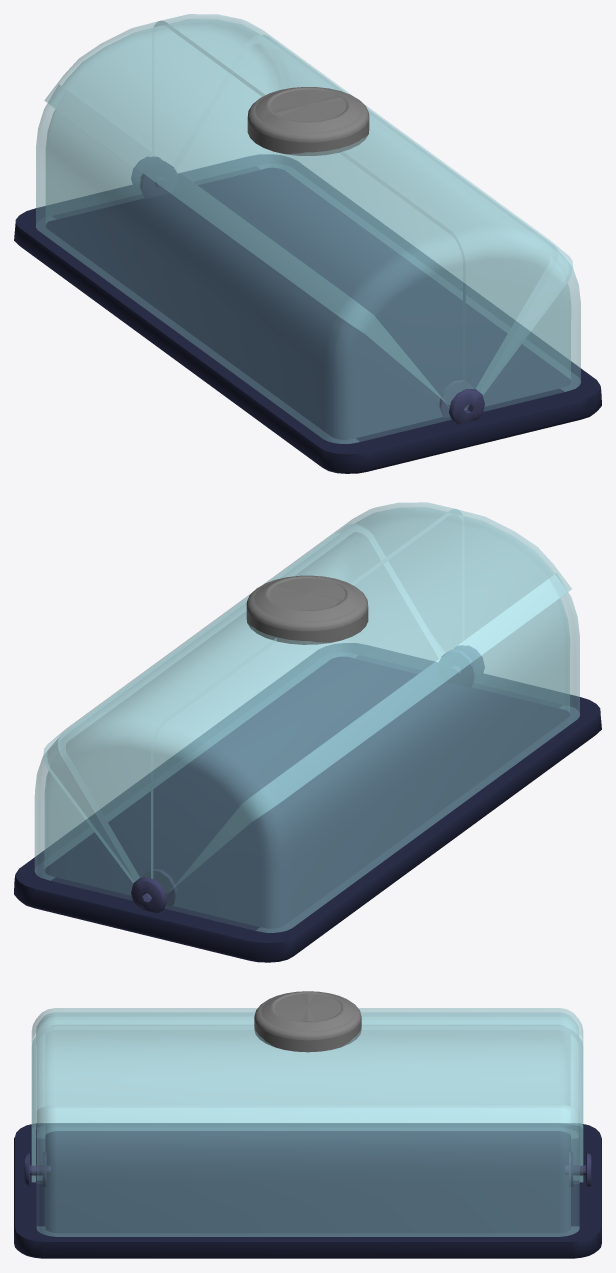
File: DrinkCover.fbx
3 renders of one model, top to bottom at view 1: azimuth 30°, elevation 25°; view 2: azimuth 150°, elevation 25°; view 3: azimuth 270°, elevation 25°, orthographic. The views are drawn at different scales.
Parts seen in each view (by area): view 1: DrinkCover, DrinkCover_Gate_01, DrinkCover_Gate_02, DrinkCover_Mumber; view 2: DrinkCover, DrinkCover_Gate_01, DrinkCover_Gate_02, DrinkCover_Mumber; view 3: DrinkCover, DrinkCover_Gate_02, DrinkCover_Gate_01, DrinkCover_Mumber.
Part boxes in pixels (box(x1,y1,x2,y2)): DrinkCover: box(14, 35, 601, 473); DrinkCover_Gate_01: box(44, 20, 465, 409); DrinkCover_Gate_02: box(154, 14, 572, 409); DrinkCover_Mumber: box(247, 87, 369, 155); DrinkCover: box(14, 523, 601, 962); DrinkCover_Gate_01: box(151, 509, 571, 897); DrinkCover_Gate_02: box(43, 502, 461, 897); DrinkCover_Mumber: box(246, 575, 368, 644); DrinkCover: box(14, 1030, 601, 1258); DrinkCover_Gate_02: box(31, 1026, 583, 1181); DrinkCover_Gate_01: box(31, 1008, 583, 1181); DrinkCover_Mumber: box(254, 991, 361, 1052).
Size of the model in its own units: 651 by 493 by 1349.
